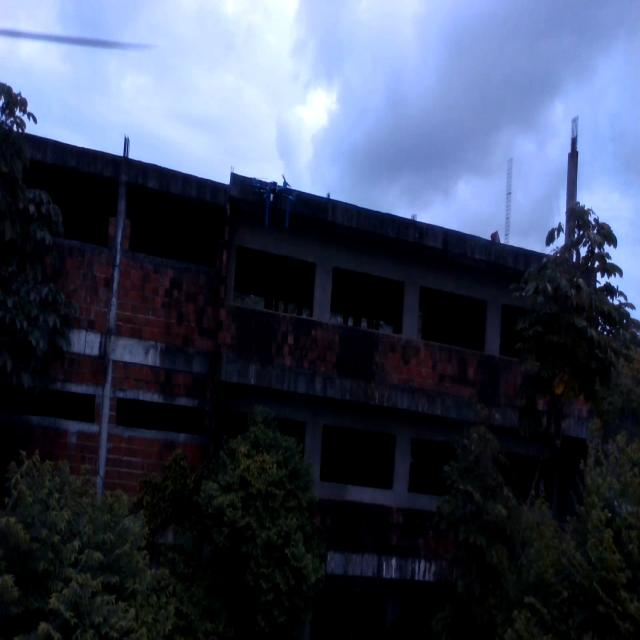-uav-: (242, 157, 303, 244)
